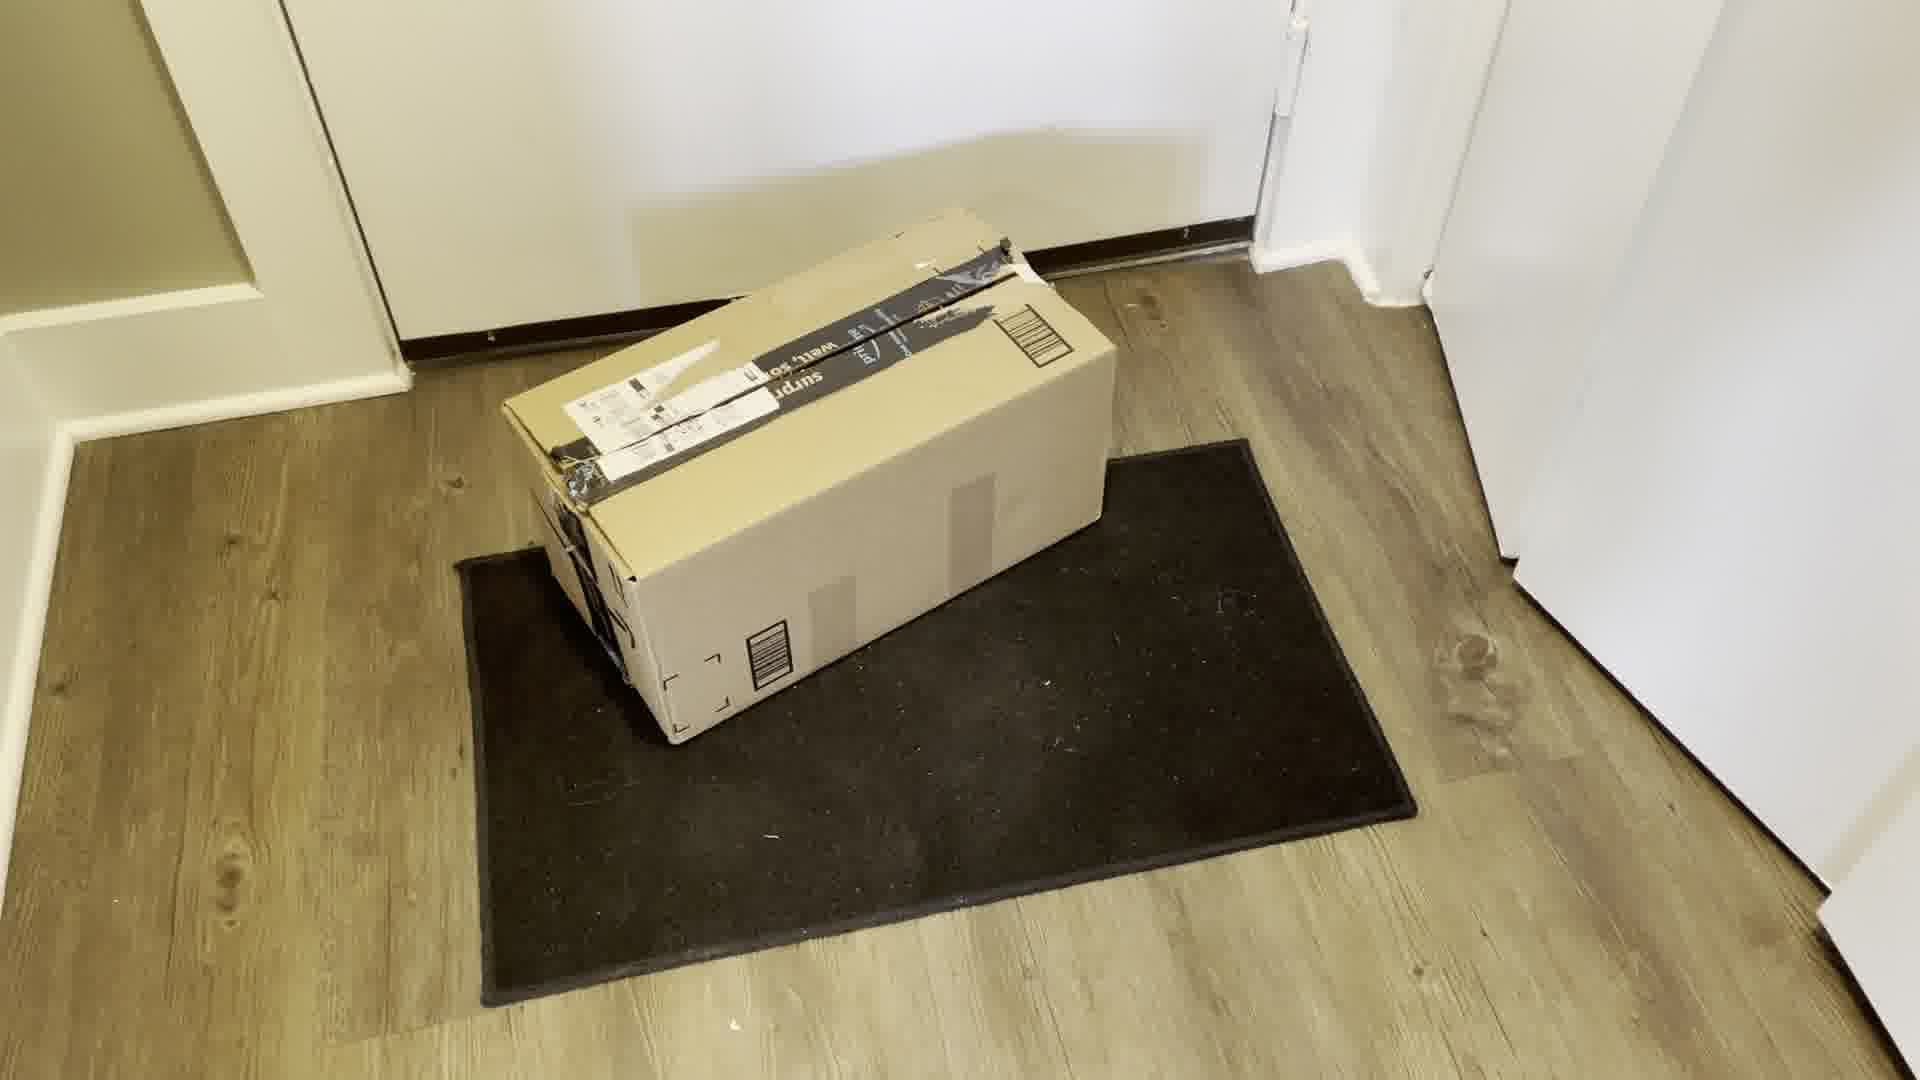box: (477, 225, 1126, 746)
